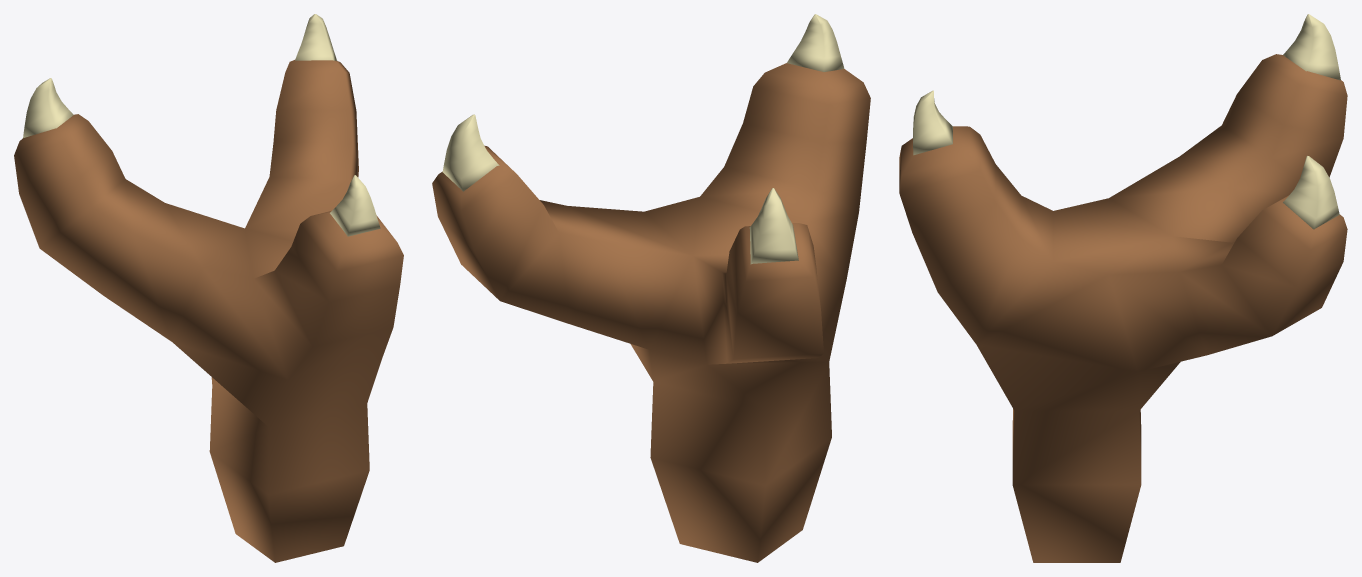
File: The Claw™.fbx
3 renders of one model, left to right at view 1: azimuth 30°, elevation 25°; view 2: azimuth 150°, elevation 25°; view 3: azimuth 270°, elevation 25°, orthographic. The views are drawn at different scales.
Parts seen in each view (by area): view 1: The Claw™ - shariar01 (Mr Fear); view 2: The Claw™ - shariar01 (Mr Fear); view 3: The Claw™ - shariar01 (Mr Fear).
Boxes of the visible parts, bbox=[...] form: The Claw™ - shariar01 (Mr Fear): bbox=[14, 14, 403, 562]; The Claw™ - shariar01 (Mr Fear): bbox=[432, 14, 870, 562]; The Claw™ - shariar01 (Mr Fear): bbox=[899, 14, 1347, 562].
Bounding box in the file's own units: 51.05 × 60.3 × 53.42.
